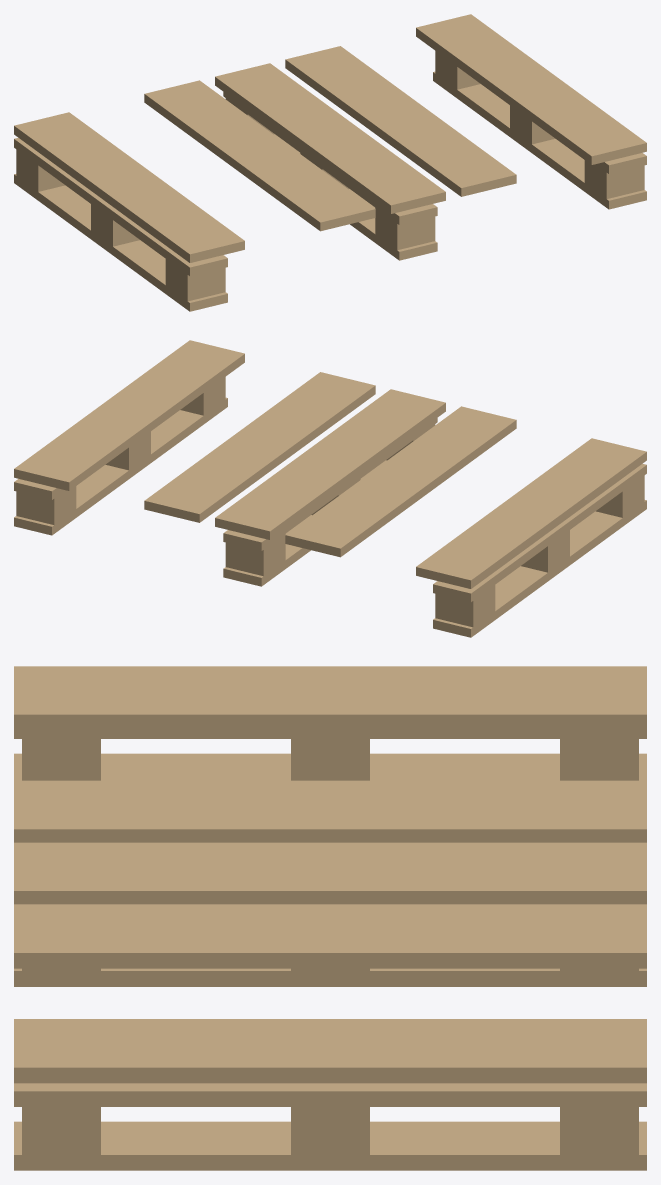
The model's file is SM_PROP_PALLET.fbx.
The picture shows the model from 3 angles, top to bottom: view 1: azimuth 30°, elevation 25°; view 2: azimuth 150°, elevation 25°; view 3: azimuth 270°, elevation 25°; orthographic projection. The views are drawn at different scales.
Visible parts, largest first — view 1: SM_PROP_PALLET; view 2: SM_PROP_PALLET; view 3: SM_PROP_PALLET.
Boxes of the visible parts, box(x1,y1,x2,y2) form: SM_PROP_PALLET: box(14, 14, 646, 311); SM_PROP_PALLET: box(14, 340, 646, 637); SM_PROP_PALLET: box(14, 666, 646, 1170).
Bounding box in the file's own units: 120 × 14.4 × 80.
